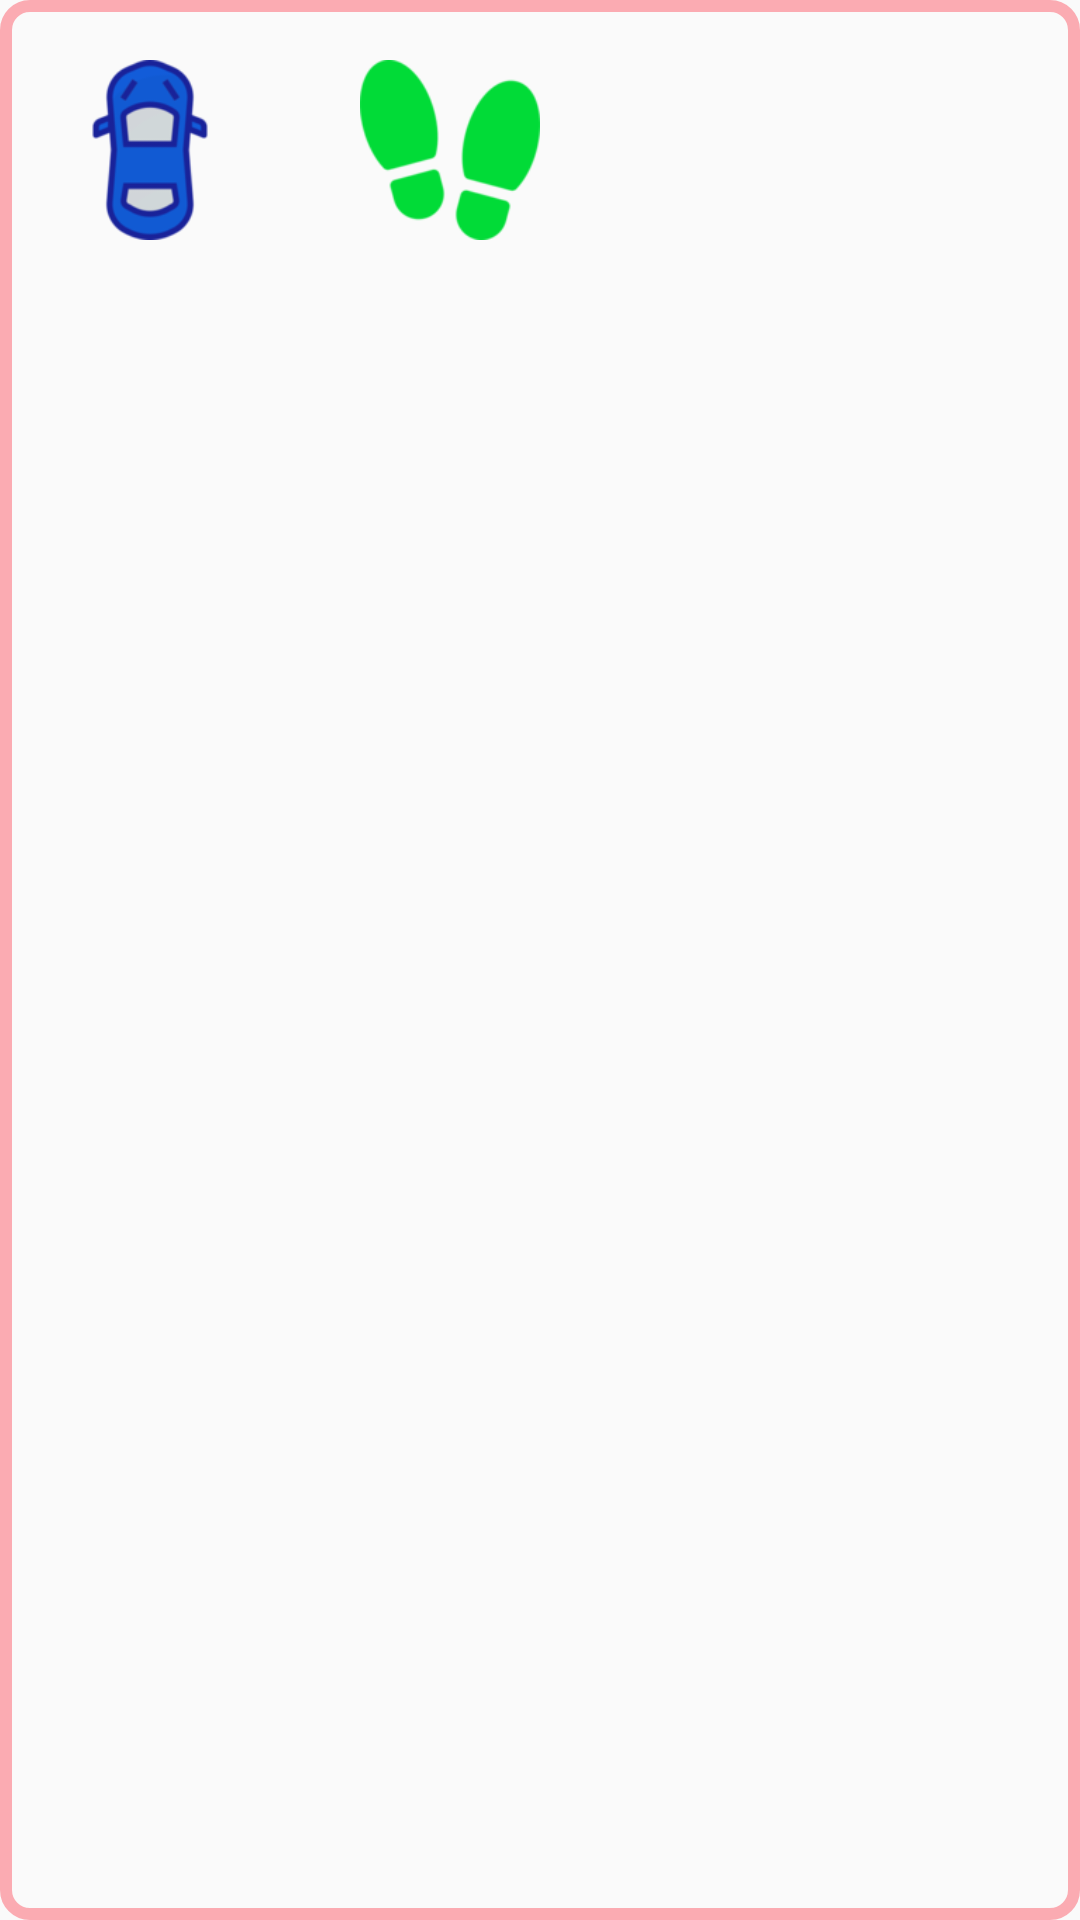

Named icons in this screenshot (1080px×1920px) and their centers, point (x, y):
drive: point (150, 150)
footprint: point (450, 150)
